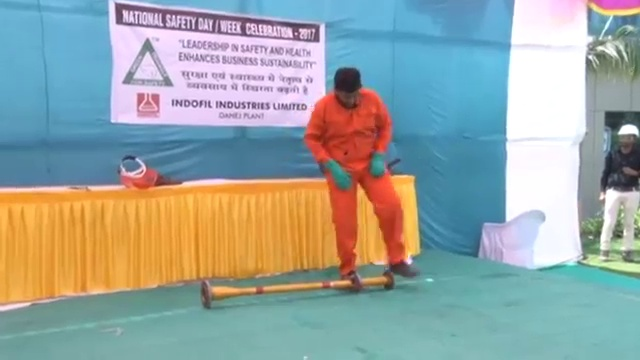helmet: (614, 122, 640, 137)
helmet_off: (331, 66, 362, 109)
helmet_on: (613, 120, 640, 155)
person: (303, 63, 423, 277), (598, 120, 639, 264)
